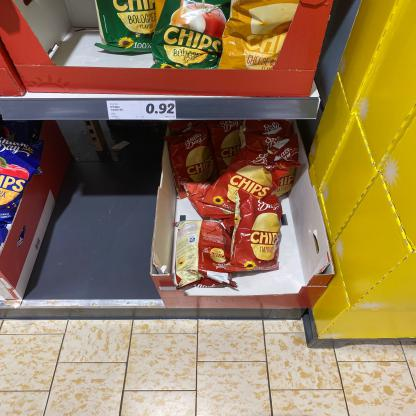prtg: (107, 102, 177, 120)
